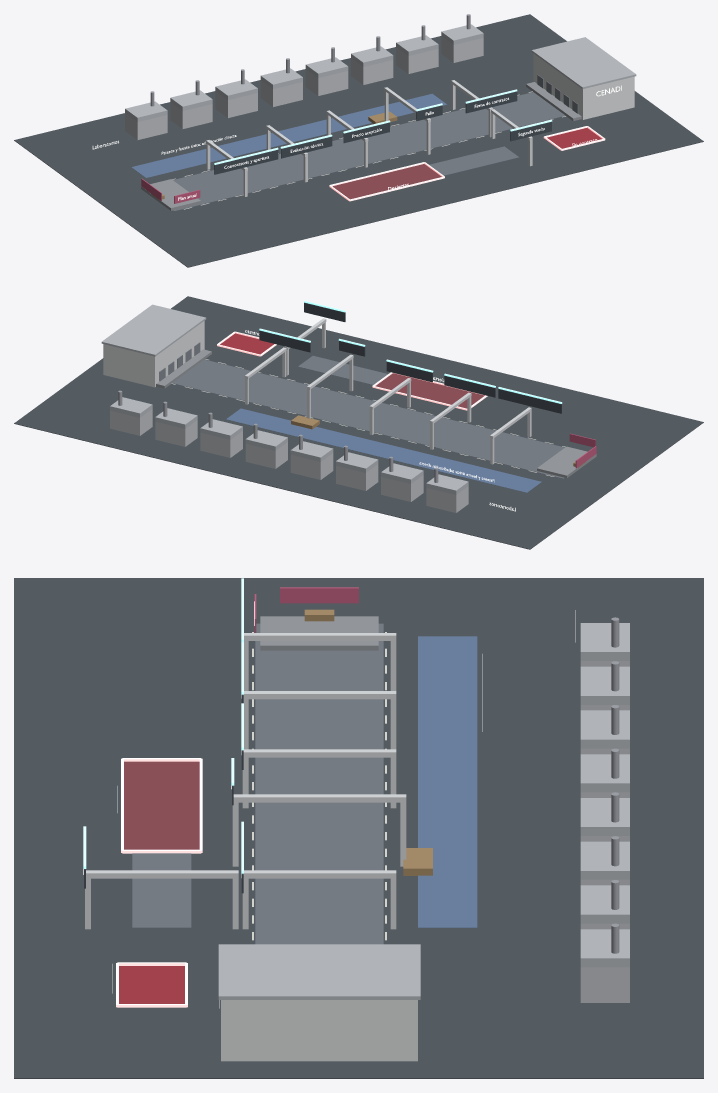
File: compra.glb
3 renders of one model, top to bottom at view 1: azimuth 30°, elevation 25°; view 2: azimuth 150°, elevation 25°; view 3: azimuth 270°, elevation 25°, orthographic. The views are drawn at different scales.
Parts seen in each view (by area): view 1: CP_Suelo, CP_Carril, CP_Techo, CP_Fabrica, CP_CarrilPatente, CP_Letrero, CP_Nave, CP_Arco, CP_FosaDesiertas, CP_Anden, CP_Texto, CP_Borde (+3 smaller); view 2: CP_Suelo, CP_Carril, CP_Techo, CP_Fabrica, CP_CarrilPatente, CP_Letrero, CP_Arco, CP_Nave, CP_Anden, CP_FosaDesiertas, CP_Borde, CP_FosaSin (+3 smaller); view 3: CP_Suelo, CP_Carril, CP_Techo, CP_CarrilPatente, CP_Arco, CP_Nave, CP_FosaDesiertas, CP_Fabrica, CP_Anden, CP_FosaSin, CP_Borde, CP_Chimenea (+2 smaller).
Part boxes in pixels (box(x1,y1,x2,y2)): CP_Suelo: box(14, 14, 703, 267); CP_Carril: box(173, 92, 565, 211); CP_Techo: box(125, 24, 636, 122); CP_Fabrica: box(125, 36, 483, 140); CP_CarrilPatente: box(131, 93, 446, 177); CP_Letrero: box(214, 91, 551, 174); CP_Nave: box(533, 53, 634, 119); CP_Arco: box(206, 80, 532, 196); CP_FosaDesiertas: box(332, 164, 441, 199); CP_Anden: box(141, 82, 581, 210); CP_Texto: box(92, 85, 621, 200); CP_Borde: box(329, 126, 605, 201); CP_Suelo: box(14, 296, 703, 549); CP_Carril: box(172, 355, 564, 478); CP_Techo: box(101, 304, 468, 494); CP_Fabrica: box(110, 409, 468, 512); CP_CarrilPatente: box(226, 408, 541, 492); CP_Letrero: box(259, 302, 561, 413); CP_Arco: box(244, 318, 531, 464); CP_Nave: box(103, 321, 204, 387); CP_Anden: box(156, 349, 596, 478); CP_FosaDesiertas: box(375, 373, 484, 408); CP_Borde: box(217, 331, 487, 410); CP_FosaSin: box(220, 333, 273, 354); CP_Suelo: box(14, 578, 703, 1078); CP_Carril: box(132, 623, 383, 944); CP_Techo: box(218, 623, 629, 999); CP_CarrilPatente: box(418, 636, 477, 927); CP_Arco: box(85, 633, 406, 929); CP_Nave: box(221, 1000, 417, 1061); CP_FosaDesiertas: box(124, 761, 199, 849); CP_Fabrica: box(580, 661, 629, 1002); CP_Anden: box(260, 616, 378, 650); CP_FosaSin: box(119, 966, 184, 1003); CP_Borde: box(116, 758, 202, 1007); CP_Chimenea: box(611, 617, 619, 953).
Size of the model in its own units: 240 by 21.5 by 140.
